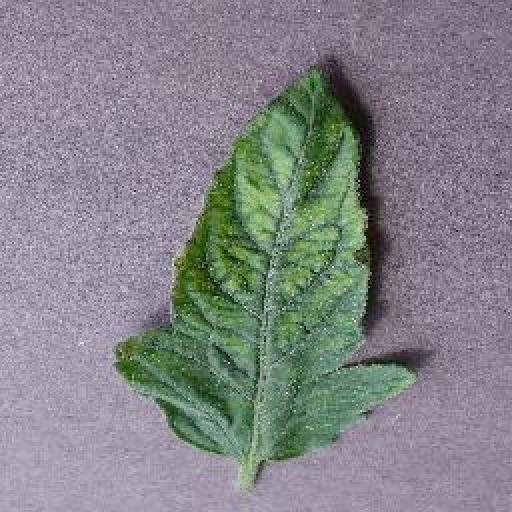Mosaic Virus: (111, 62, 429, 462)
